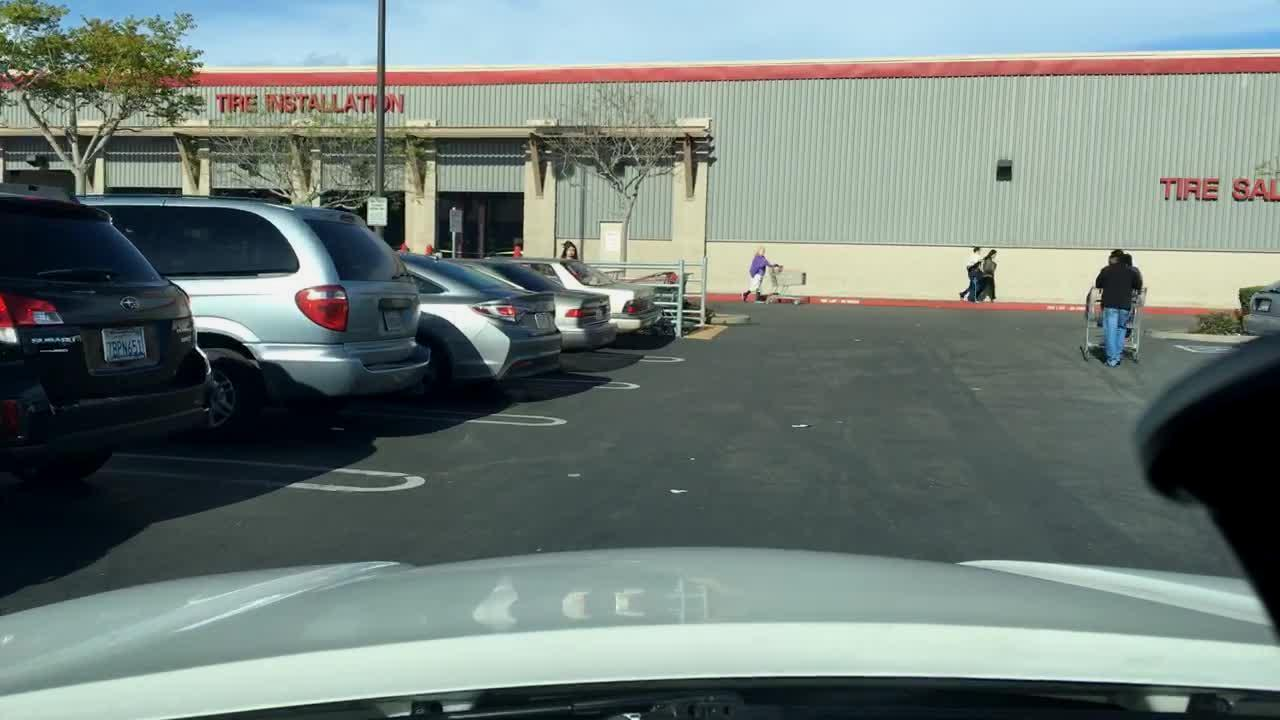subaru: (117, 292, 143, 316)
